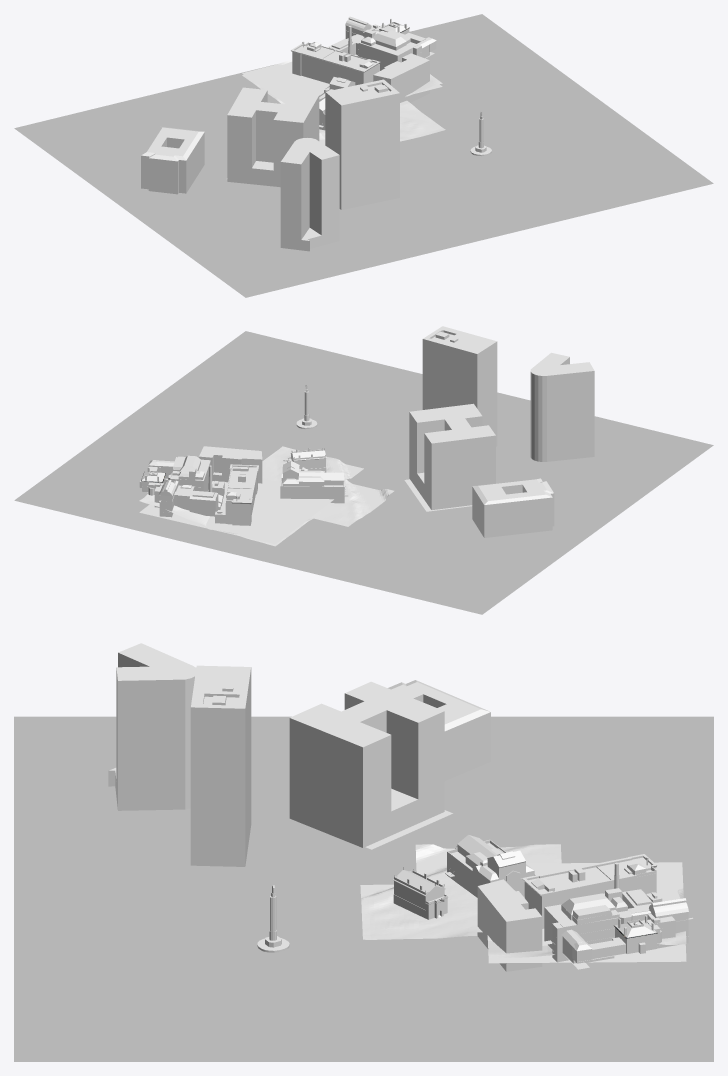
File: build2.dae
3 renders of one model, top to bottom at view 1: azimuth 30°, elevation 25°; view 2: azimuth 150°, elevation 25°; view 3: azimuth 270°, elevation 25°, orthographic. The views are drawn at different scales.
Parts seen in each view (by area): view 1: View-Perspective; view 2: View-Perspective; view 3: View-Perspective.
Part boxes in pixels (x1,y1,x2,y2): View-Perspective: (14, 14, 713, 297); View-Perspective: (14, 326, 713, 614); View-Perspective: (14, 643, 713, 1061).
Size of the model in its own units: 398 by 90.74 by 341.
